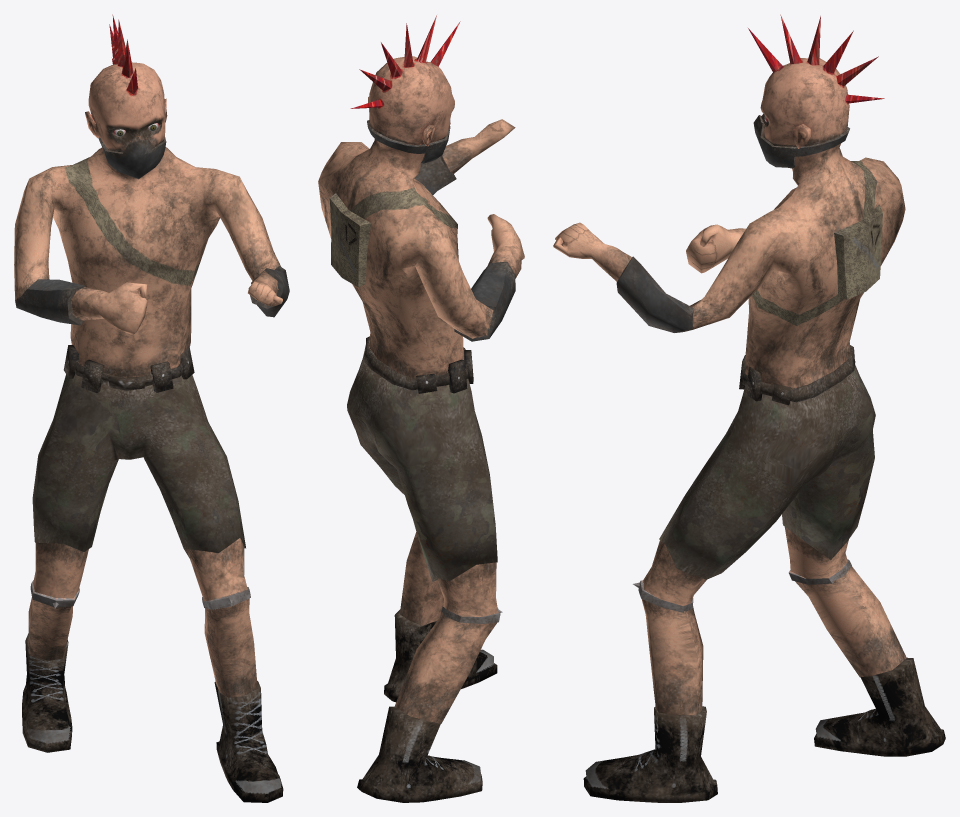
File: Anim_disparar_ametralladora_npc2.0029.obj
The picture shows the model from 3 angles, left to right: view 1: azimuth 30°, elevation 25°; view 2: azimuth 150°, elevation 25°; view 3: azimuth 270°, elevation 25°; orthographic projection. The views are drawn at different scales.
Visible parts, largest first — view 1: polySurface1; view 2: polySurface1; view 3: polySurface1.
Boxes of the visible parts, bbox=[...] form: polySurface1: bbox=[14, 14, 289, 802]; polySurface1: bbox=[318, 15, 524, 802]; polySurface1: bbox=[553, 14, 945, 802].
Size of the model in its own units: 2.86 by 9.8 by 4.6.
2 materials, 2 textured.
